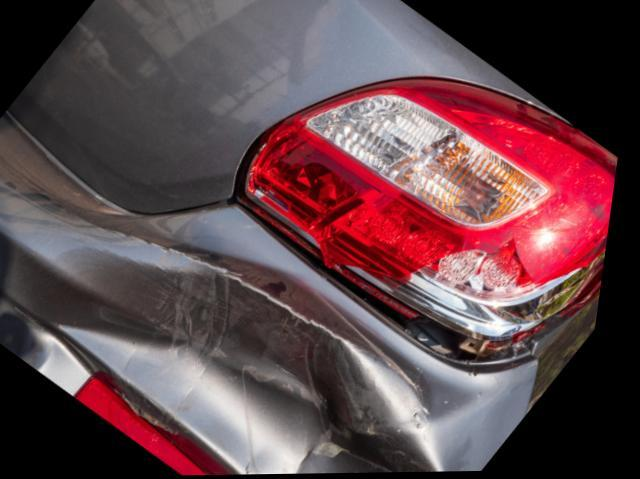dent: (63, 249, 452, 475)
lamp broken: (241, 78, 623, 361)
